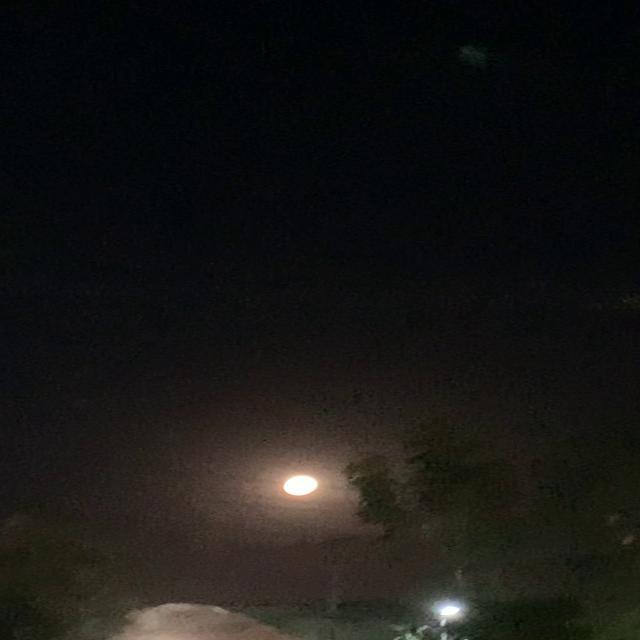moon: (264, 476, 318, 500)
